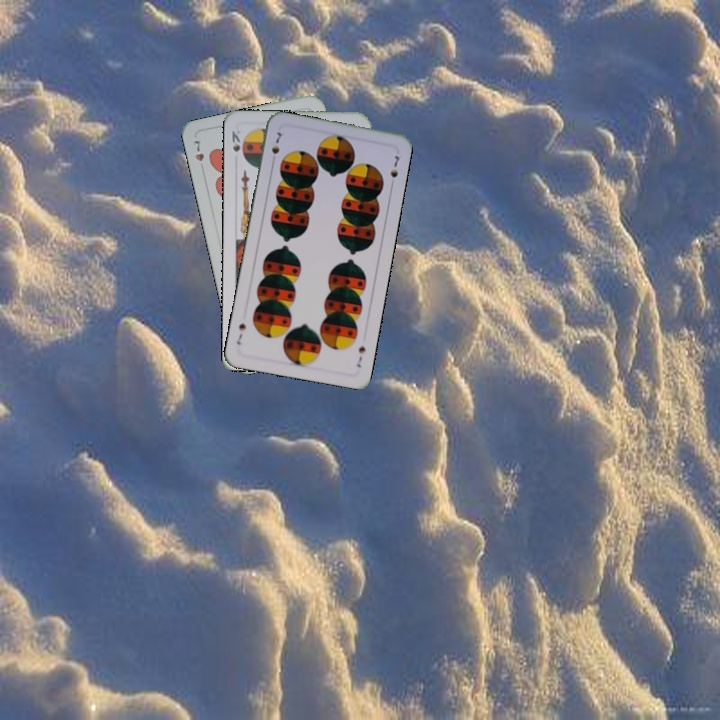H7: (189, 135, 207, 175)
S7: (267, 128, 284, 166), (353, 342, 368, 370)
SK: (228, 126, 246, 162)
